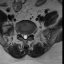CCS_stenosis: (24, 32, 26, 41)
LFS_severe_stenosis: (28, 30, 30, 37)
LLS_normal: (26, 32, 28, 39)
RFS_severe_stenosis: (19, 30, 21, 37)
RLS_normal: (21, 32, 24, 40)
